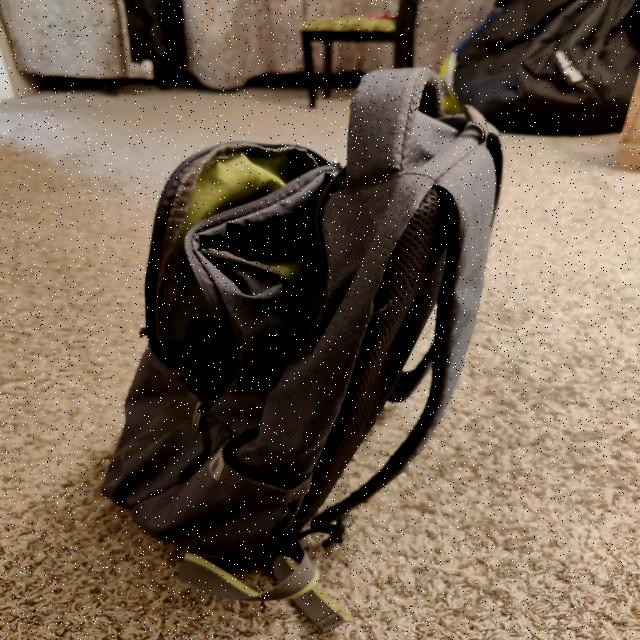bag: (110, 70, 489, 564)
